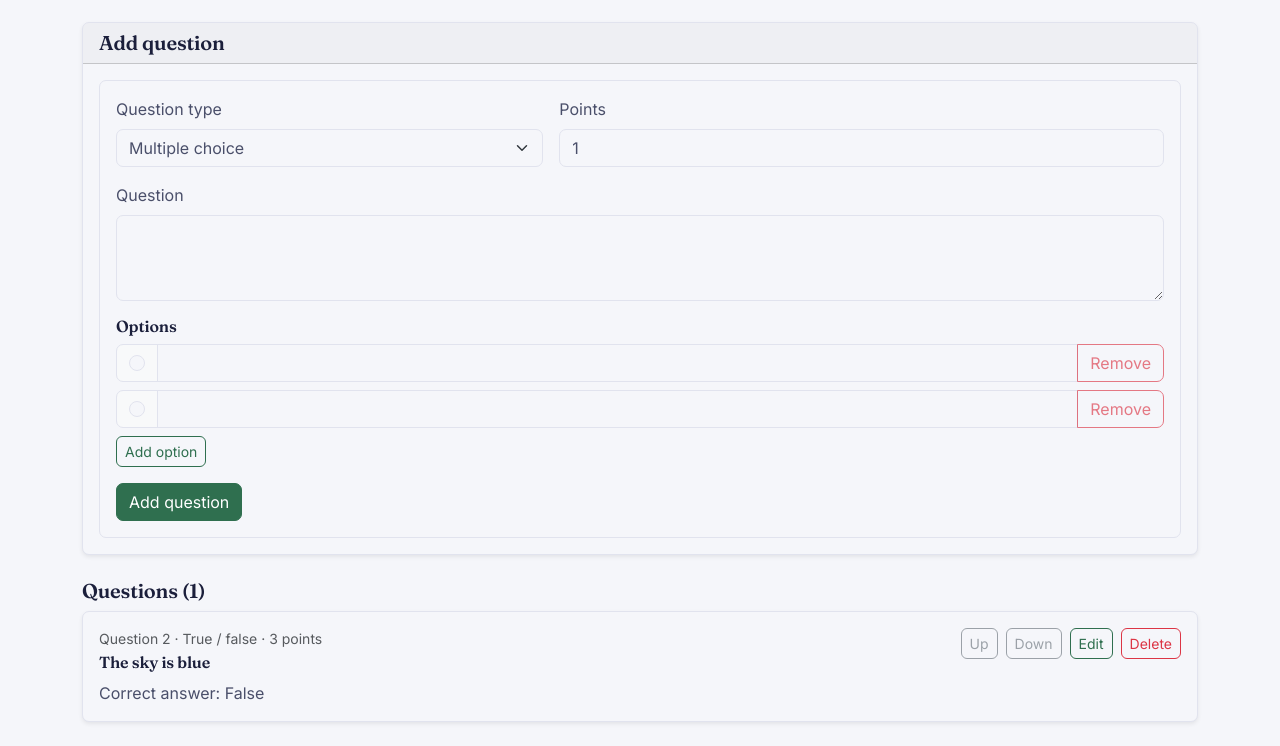
question creation and updates › updates a true/false question through the service with a clean final payload
(page scrolled)
Expected: the heading "Add question" is shown, [99,30,224,55]
Click the button with aria-label "Edit question 2" at coordinates (1091, 644), box [1070,628,1113,659]
(page scrolled)
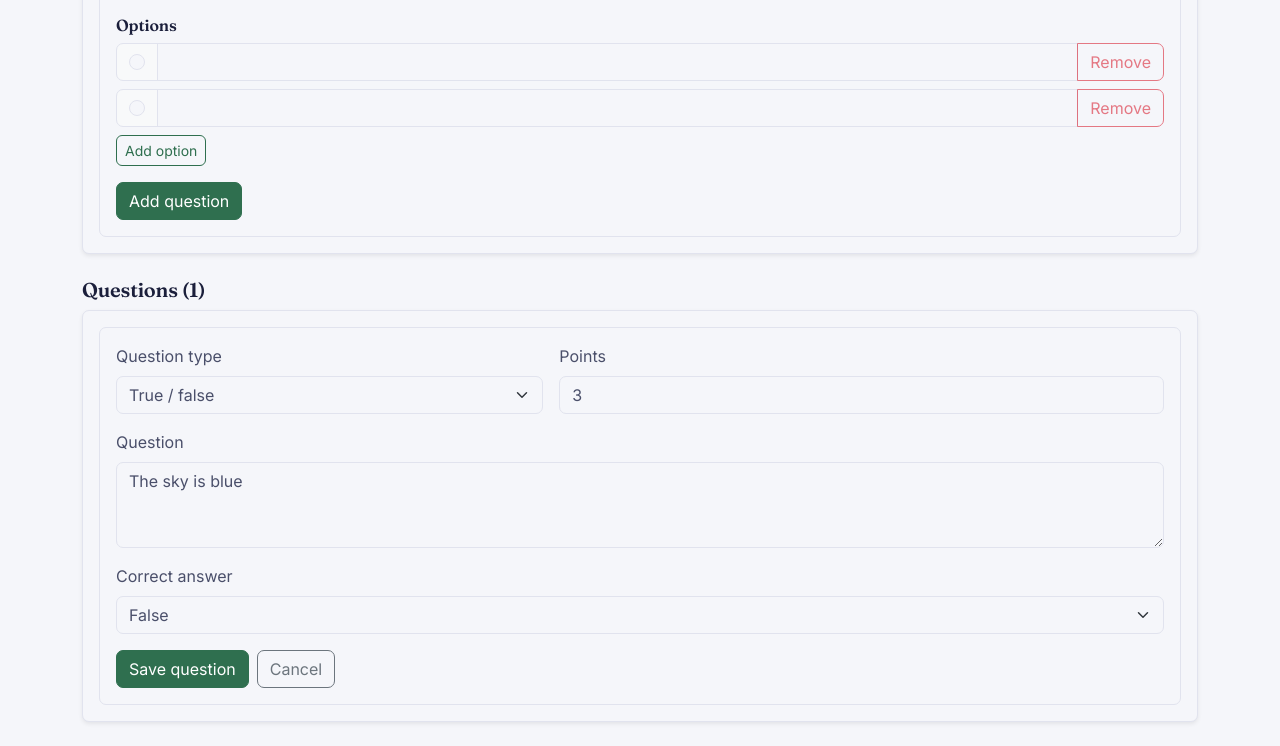
Click the button "Save question" at coordinates (182, 669), box [116,650,249,688]
(page scrolled)
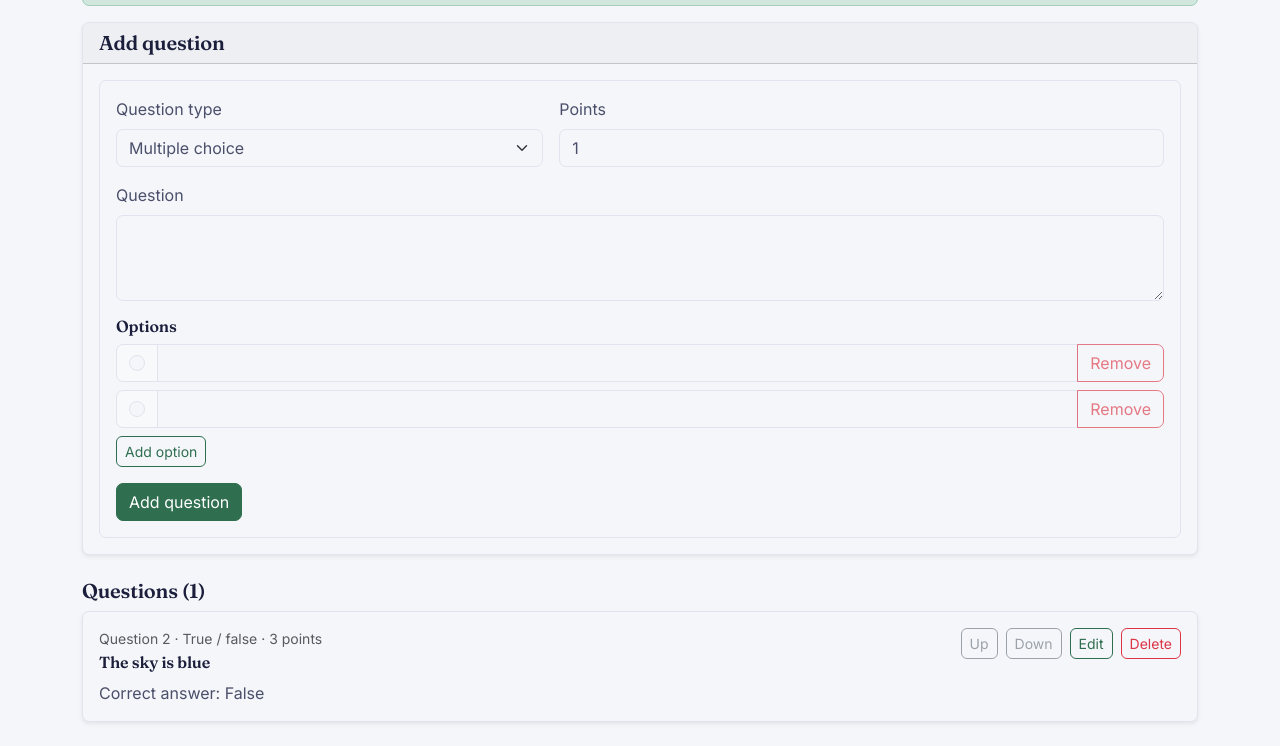
Result: the heading "The sky is blue" is shown at [99,652,210,672]
